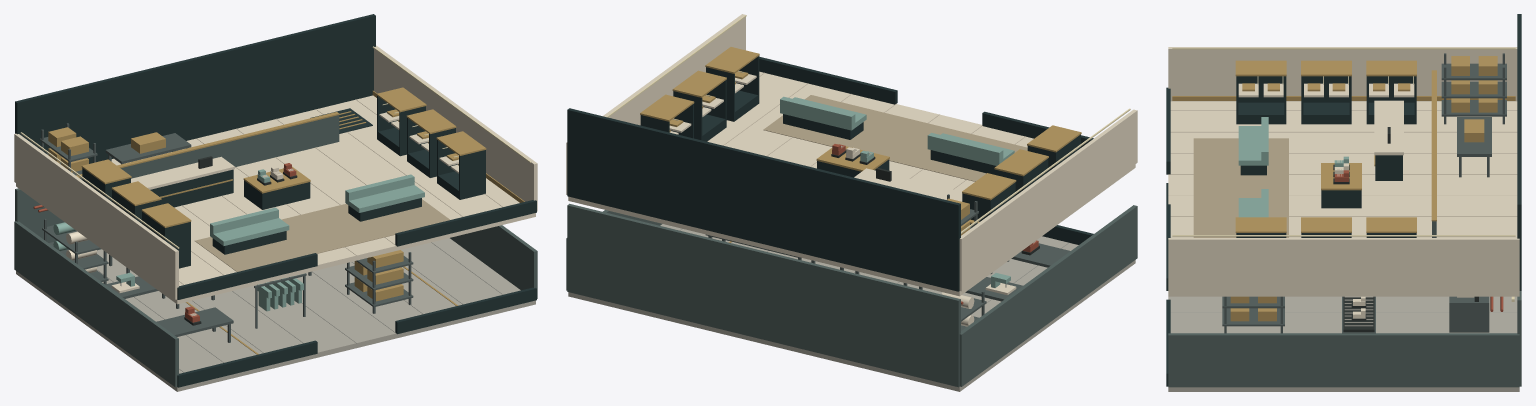
Rendered from designer-kicks-retail-factory-review.glb.
3 renders of one model, left to right at view 1: azimuth 30°, elevation 25°; view 2: azimuth 150°, elevation 25°; view 3: azimuth 270°, elevation 25°, orthographic. The views are drawn at different scales.
Parts seen in each view (by area): view 1: retail-batch-1, retail-batch-0, factory-batch-12, factory-batch-13, retail-batch-4, retail-batch-5, factory-batch-19, retail-batch-10, factory-batch-14, retail-batch-8, factory-batch-18, retail-batch-11 (+4 smaller); view 2: retail-batch-1, factory-batch-13, retail-batch-0, retail-batch-4, retail-batch-5, factory-batch-12, retail-batch-8, factory-batch-19, retail-batch-3, factory-batch-14; view 3: retail-batch-0, factory-batch-13, retail-batch-4, factory-batch-12, retail-batch-1, retail-batch-5, retail-batch-11, factory-batch-19, retail-batch-8, retail-batch-2, retail-batch-3, factory-batch-24 (+3 smaller).
Boxes of the visible parts, x1,y1,x2,y2 form: retail-batch-1: (15,14,536,299); retail-batch-0: (14,45,537,304); factory-batch-12: (16,238,535,391); factory-batch-13: (14,188,537,387); retail-batch-4: (48,87,524,227); retail-batch-5: (195,199,449,271); factory-batch-19: (42,219,413,342); retail-batch-10: (80,115,339,179); factory-batch-14: (177,287,536,387); retail-batch-8: (210,169,424,245); factory-batch-18: (186,250,457,354); retail-batch-11: (39,123,191,175); retail-batch-1: (567,56,1093,291); factory-batch-13: (566,203,1137,387); retail-batch-0: (566,14,1137,296); retail-batch-4: (640,47,1081,235); retail-batch-5: (763,95,1027,181); factory-batch-12: (568,224,1135,391); retail-batch-8: (780,96,1014,165); factory-batch-19: (705,234,1070,330); retail-batch-3: (606,15,1130,233); factory-batch-14: (1042,225,1093,244); retail-batch-0: (1168,47,1519,296); factory-batch-13: (1168,291,1521,387); retail-batch-4: (1172,56,1515,232); factory-batch-12: (1168,296,1519,391); retail-batch-1: (1166,14,1521,290); retail-batch-5: (1193,138,1288,237); retail-batch-11: (1441,53,1506,177); factory-batch-19: (1222,296,1489,333); retail-batch-8: (1238,117,1348,217); retail-batch-2: (1168,110,1517,237); retail-batch-3: (1172,48,1515,236); factory-batch-24: (1343,296,1478,332).
Bounding box in the file's own units: 18.18 × 8.24 × 14.18.
